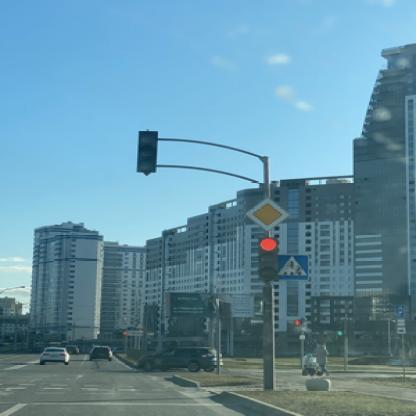Red Light: (259, 236, 279, 282)
